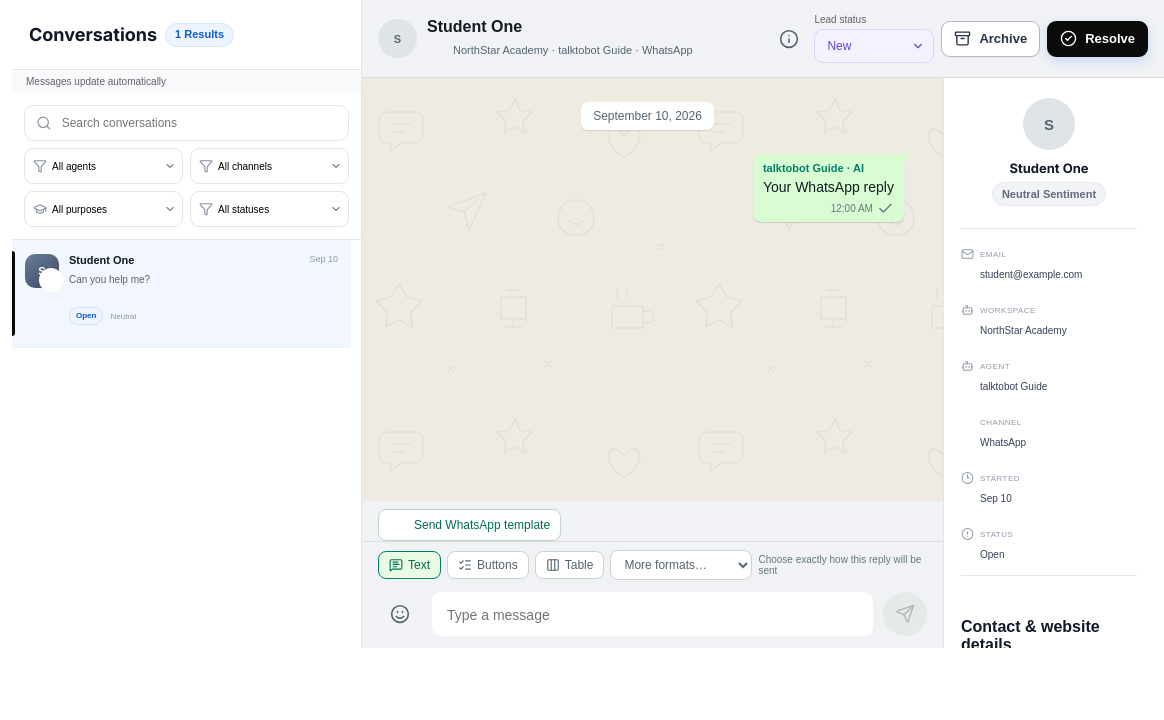
Test: Conversations live messages and reading position › refreshes WhatsApp messages and delivery receipts while preserving an unsent draft
This screenshot has width=1164, height=720.
Check: the picture named "Sent to WhatsApp" is shown, box [877, 200, 894, 217]
Step 1. Type "Unsent draft" into the text box named "WhatsApp message" → [652, 614], box [432, 592, 873, 636]
Wait 2000 ms
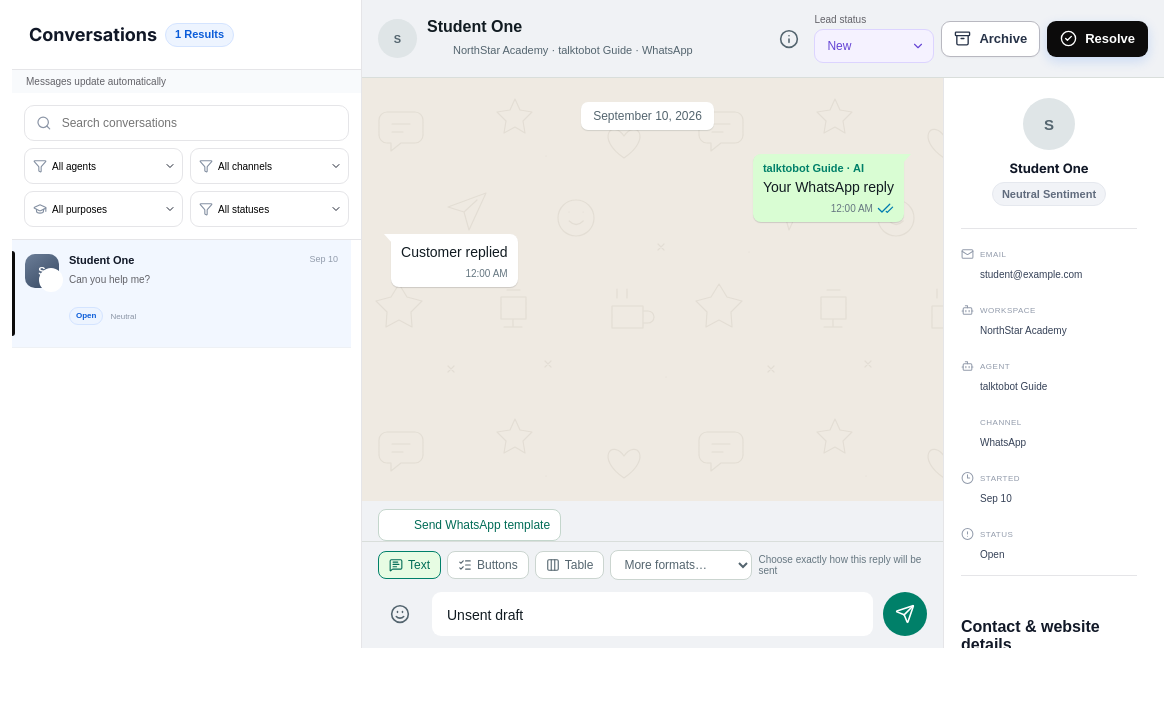
Check: the picture named "Read" is shown, box [877, 200, 894, 217]
Check: the element named "Conversation messages" shows "Customer replied", box [401, 244, 508, 260]
